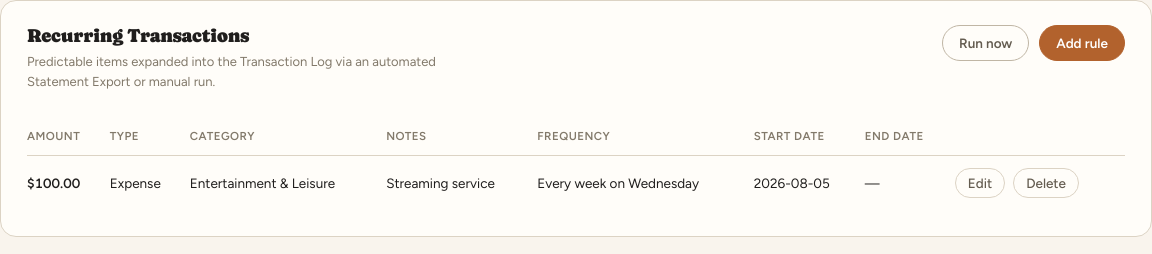
Test: RecurringRules › deletes a rule and drops it from the list
Click the button with aria-label "Delete Streaming service".
click(1046, 183)  # box [1013, 168, 1079, 198]
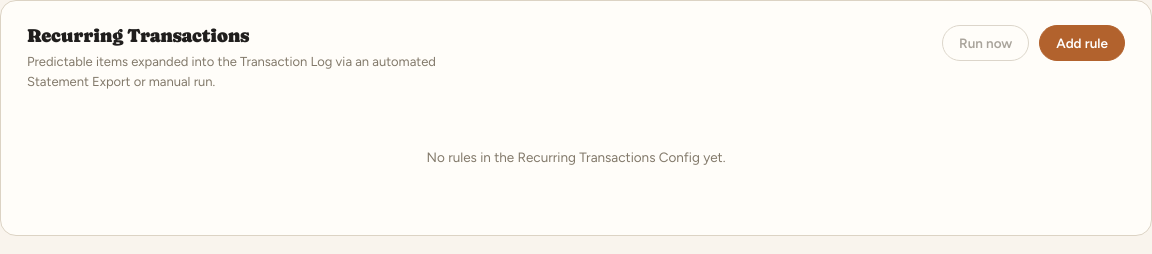
Expected: the text "Streaming service" is gone
